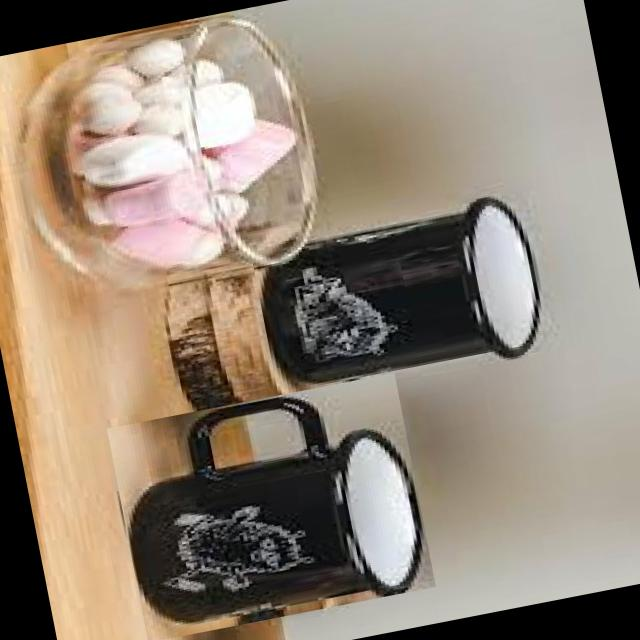Coffee Mug: (113, 373, 436, 640), (248, 188, 554, 403)
